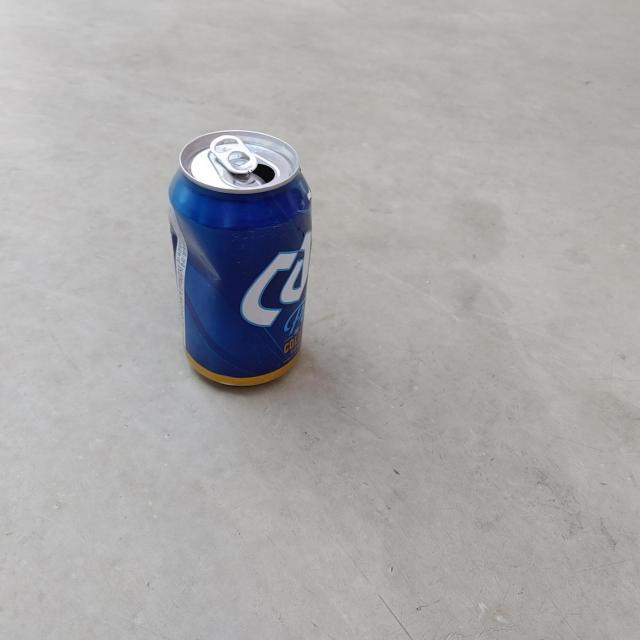can: (169, 129, 312, 386)
